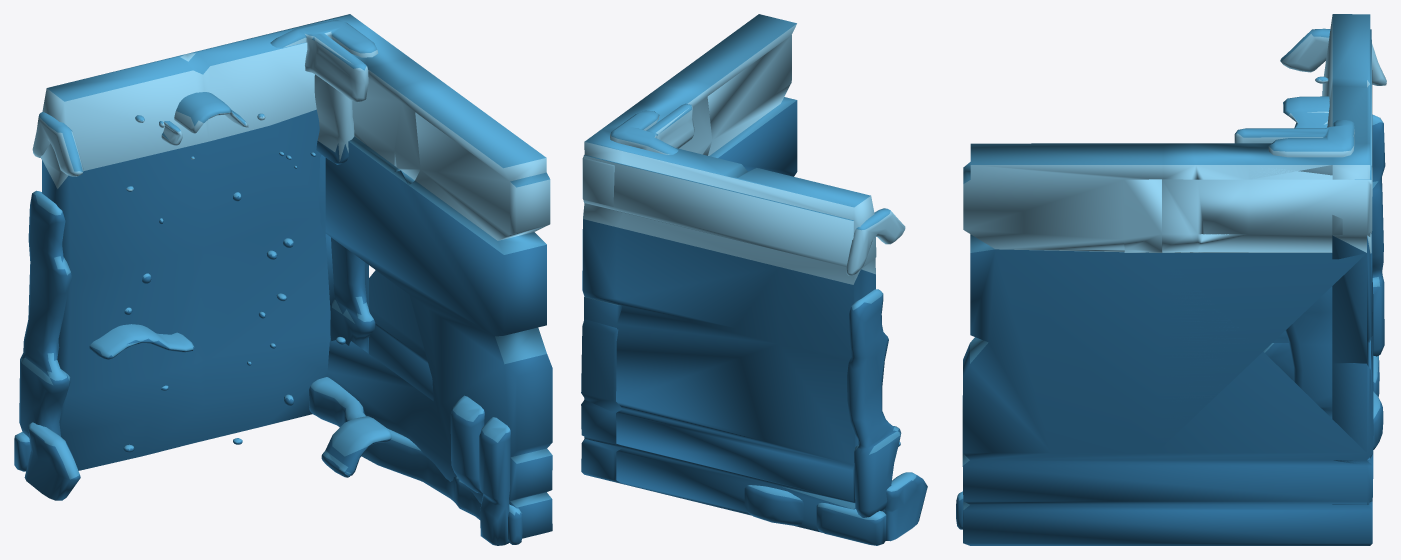
The model's file is SM_bob_map_river_channel.glb.
The picture shows the model from 3 angles, left to right: view 1: azimuth 30°, elevation 25°; view 2: azimuth 150°, elevation 25°; view 3: azimuth 270°, elevation 25°; orthographic projection. The views are drawn at different scales.
Visible parts, largest first — view 1: SM_bob_map_river_channel; view 2: SM_bob_map_river_channel; view 3: SM_bob_map_river_channel.
Boxes of the visible parts, x1,y1,x2,y2 form: SM_bob_map_river_channel: [14, 14, 552, 545]; SM_bob_map_river_channel: [581, 14, 927, 545]; SM_bob_map_river_channel: [956, 14, 1386, 545].
Bounding box in the file's own units: 0.325 × 0.35 × 0.35.
1 material, 1 textured.
